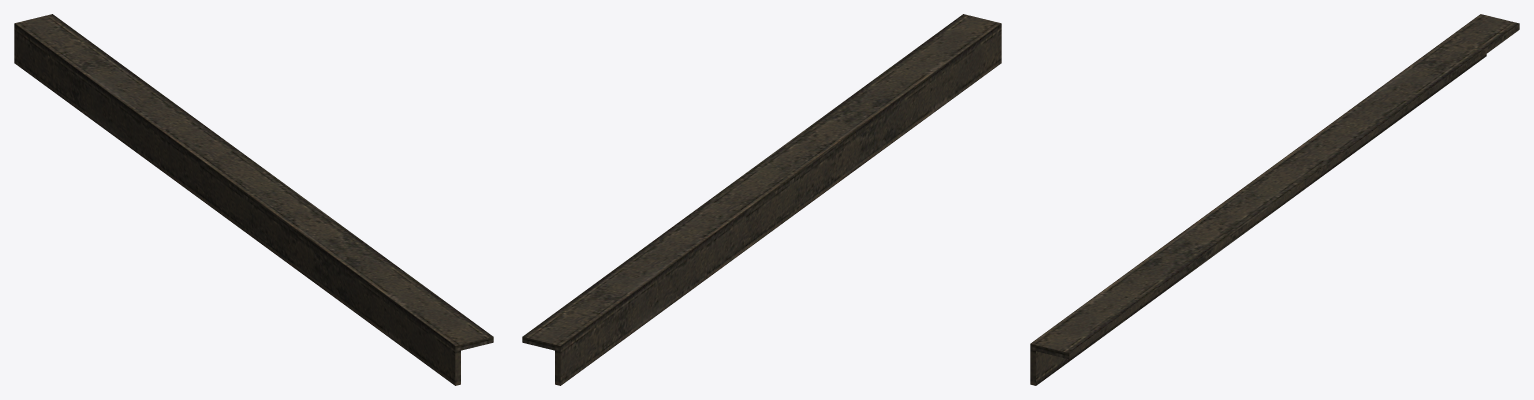
Rendered from seam_hl_2.obj.
The picture shows the model from 3 angles, left to right: view 1: azimuth 30°, elevation 25°; view 2: azimuth 150°, elevation 25°; view 3: azimuth 330°, elevation 25°; orthographic projection. The views are drawn at different scales.
Parts seen in each view (by area): view 1: seam_hl_2; view 2: seam_hl_2; view 3: seam_hl_2.
Part boxes in pixels (x1,y1,x2,y2): seam_hl_2: (14,14,493,385); seam_hl_2: (522,14,1001,385); seam_hl_2: (1030,14,1519,385).
Size of the model in its own units: 0.2 by 0.2 by 4.
